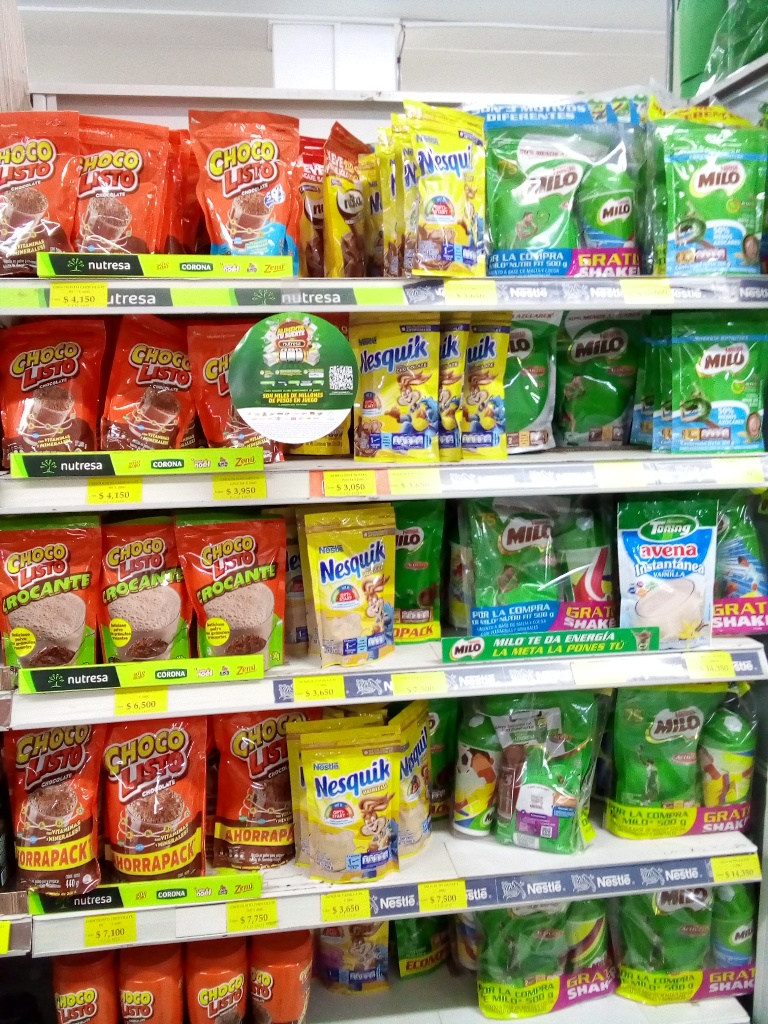COL0170102DYP25000: (1, 506, 93, 680)
COL0170103DYP20000: (1, 108, 80, 278)
COL0170103DYP44000: (4, 735, 112, 904)
COL0170103TRR30000: (180, 931, 252, 1024)
COL0170104DYP20000: (193, 105, 304, 284)
COL0170203DYP25000: (390, 503, 444, 645)
COL0170203DYP50000: (603, 682, 704, 846)
COL0170205DYP20000: (651, 308, 768, 453)
COL0170205DYP50000: (455, 492, 561, 633)
COL0170303DYP20000: (339, 308, 445, 465)
COL0170305DYP20000: (324, 921, 391, 996)
COL0170306DYP20000: (293, 719, 396, 880)
